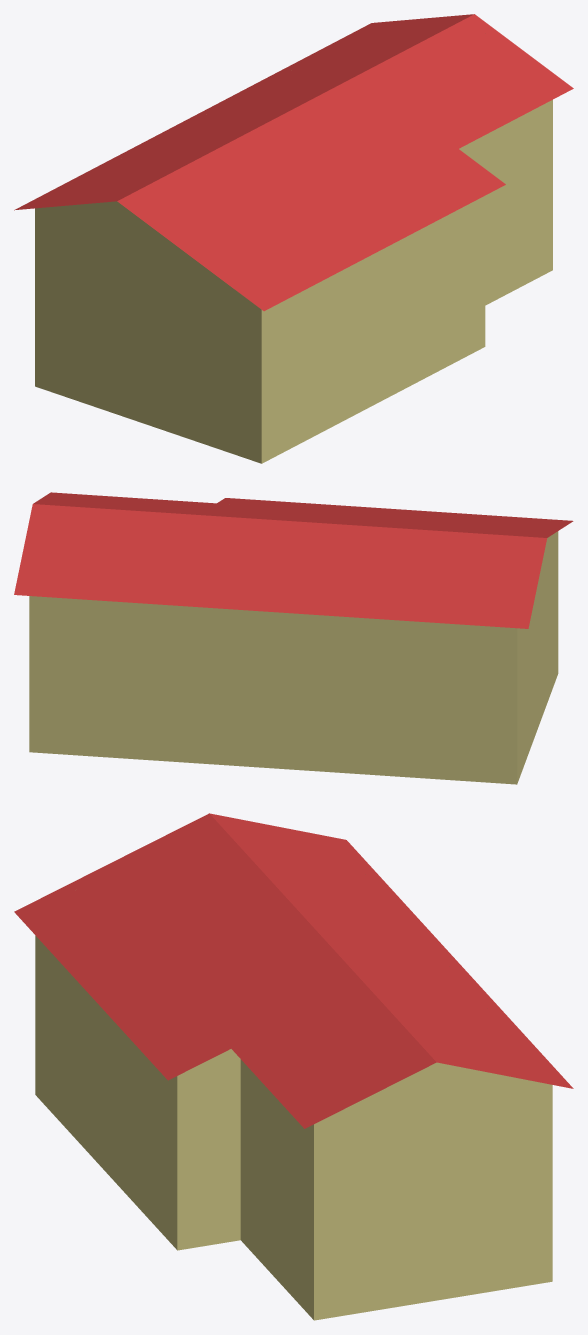
3 views of the same model, one above another, from view 1: azimuth 30°, elevation 25°; view 2: azimuth 150°, elevation 25°; view 3: azimuth 270°, elevation 25° (orthographic). The views are drawn at different scales.
Size of the model in its own units: 42.11 by 34.01 by 16.45.
